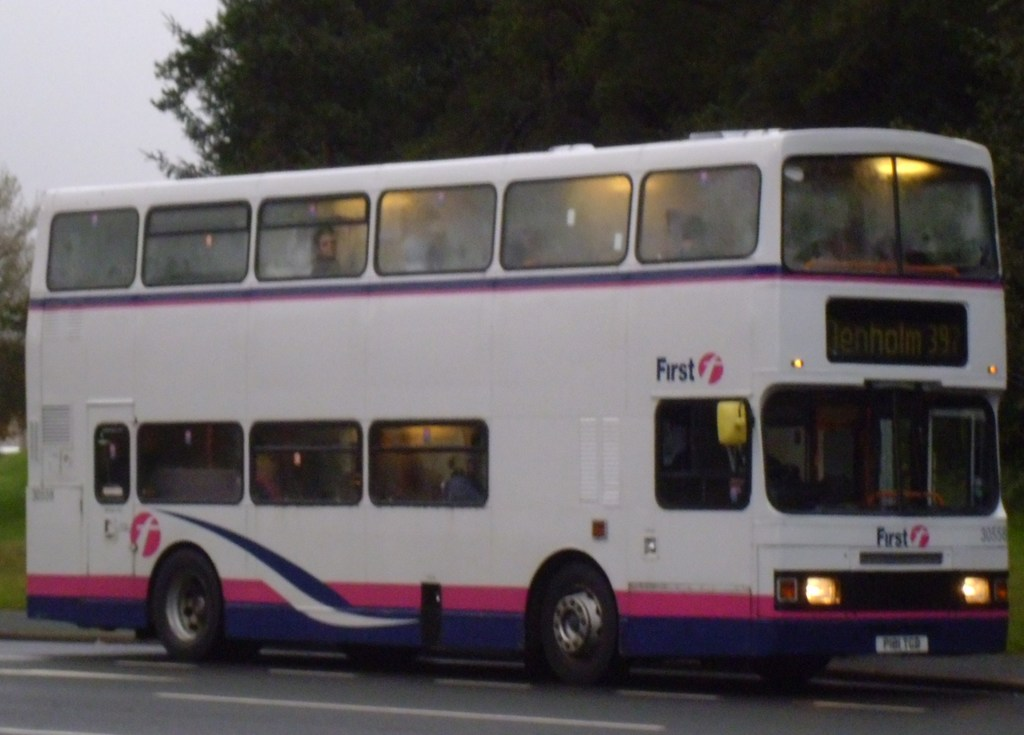Bus: (25, 127, 1010, 691)
